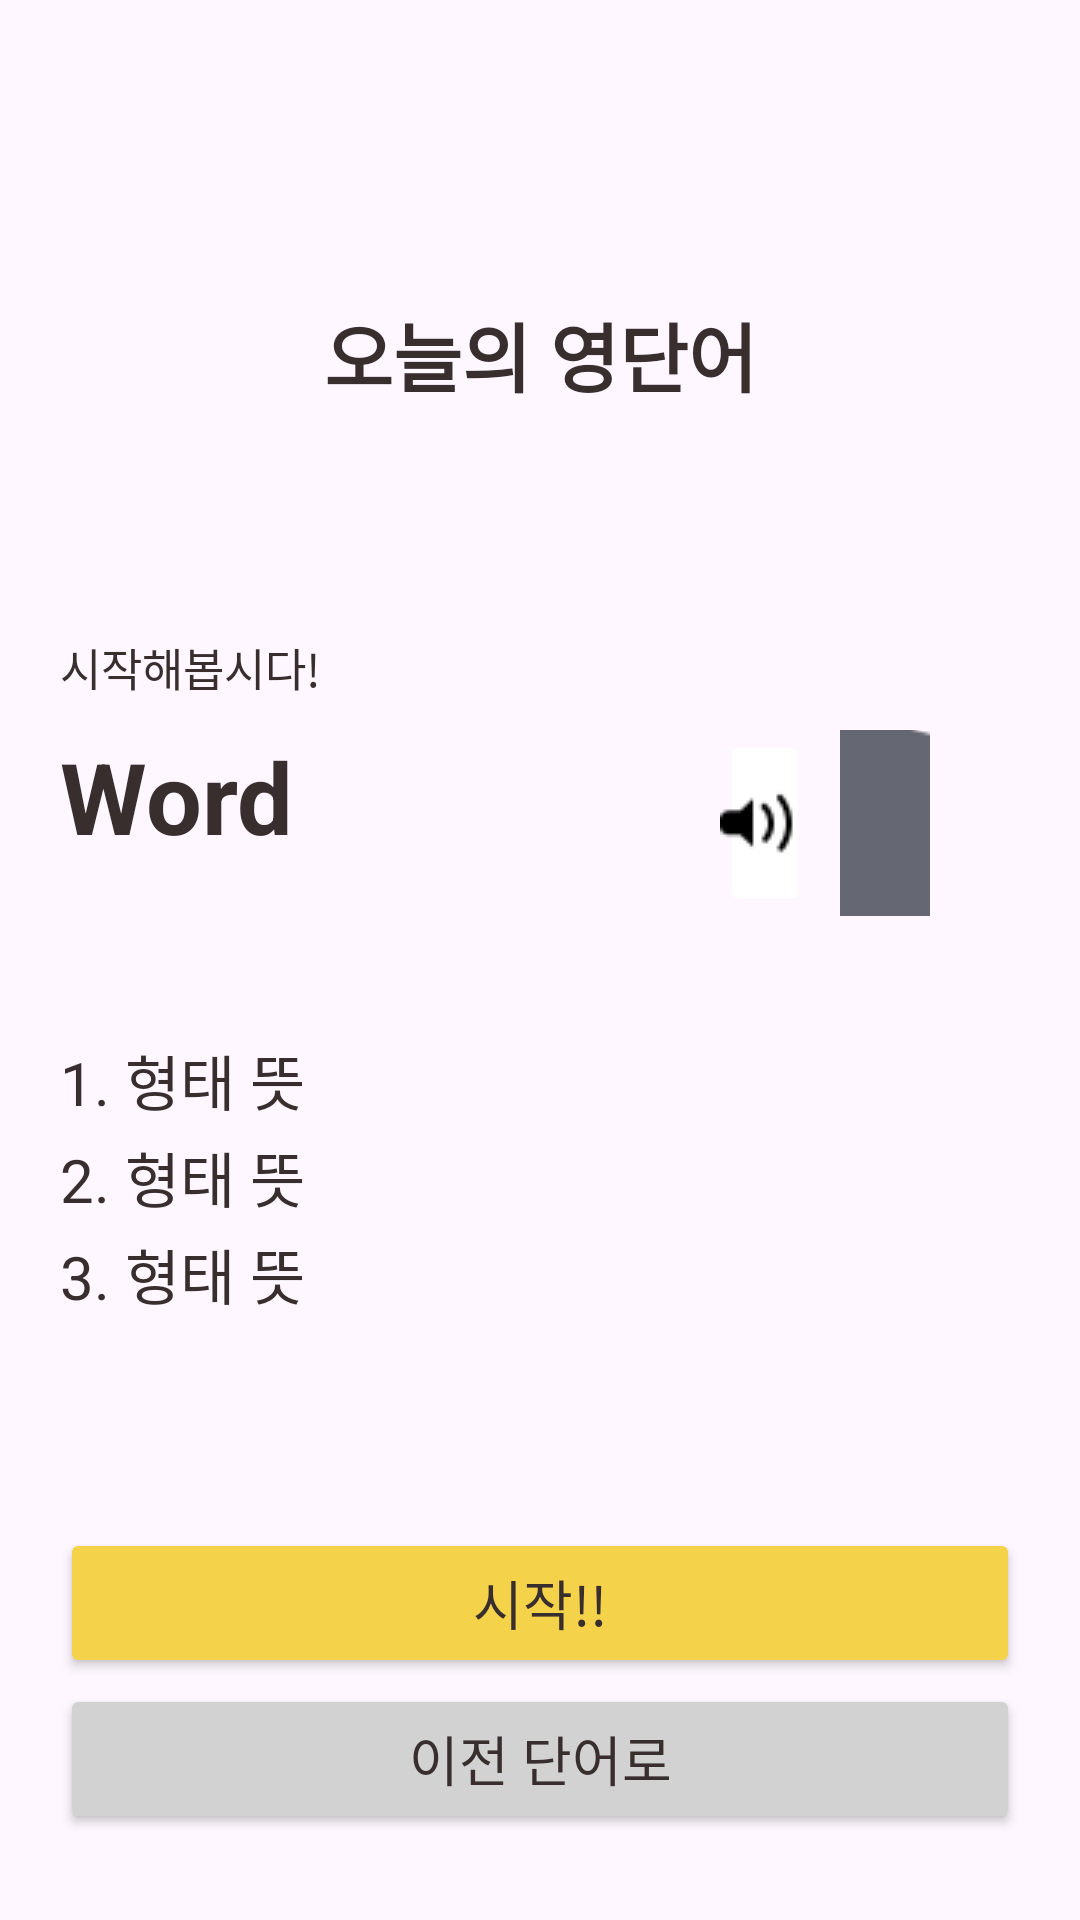

Screen size 1080 × 1920. Icon name, then its center in pixels as [x,y]:
voice: [759,823]
